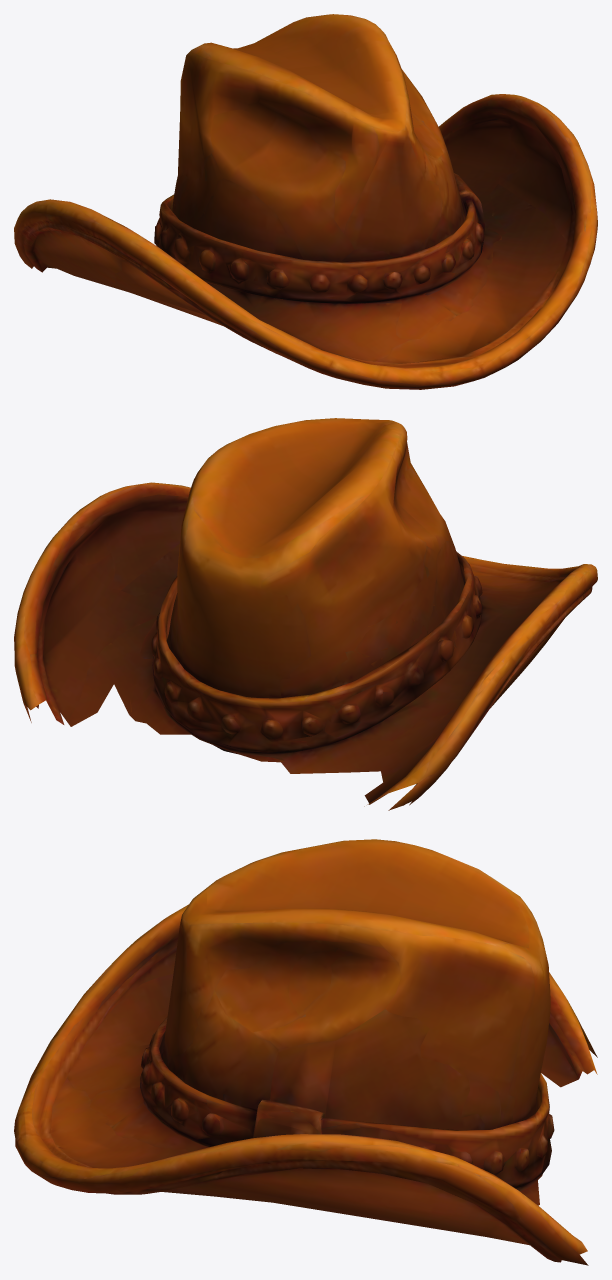
3 renders of one model, top to bottom at view 1: azimuth 30°, elevation 25°; view 2: azimuth 150°, elevation 25°; view 3: azimuth 270°, elevation 25°, orthographic. The views are drawn at different scales.
Parts seen in each view (by area): view 1: material; view 2: material; view 3: material.
Part boxes in pixels (x1=…): material: x1=14, y1=14, x2=597, y2=389; material: x1=14, y1=418, x2=597, y2=810; material: x1=14, y1=839, x2=597, y2=1265.
Bounding box in the file's own units: 0.8654 × 0.4406 × 0.8043.
Materials: 1 (1 with a texture image).
